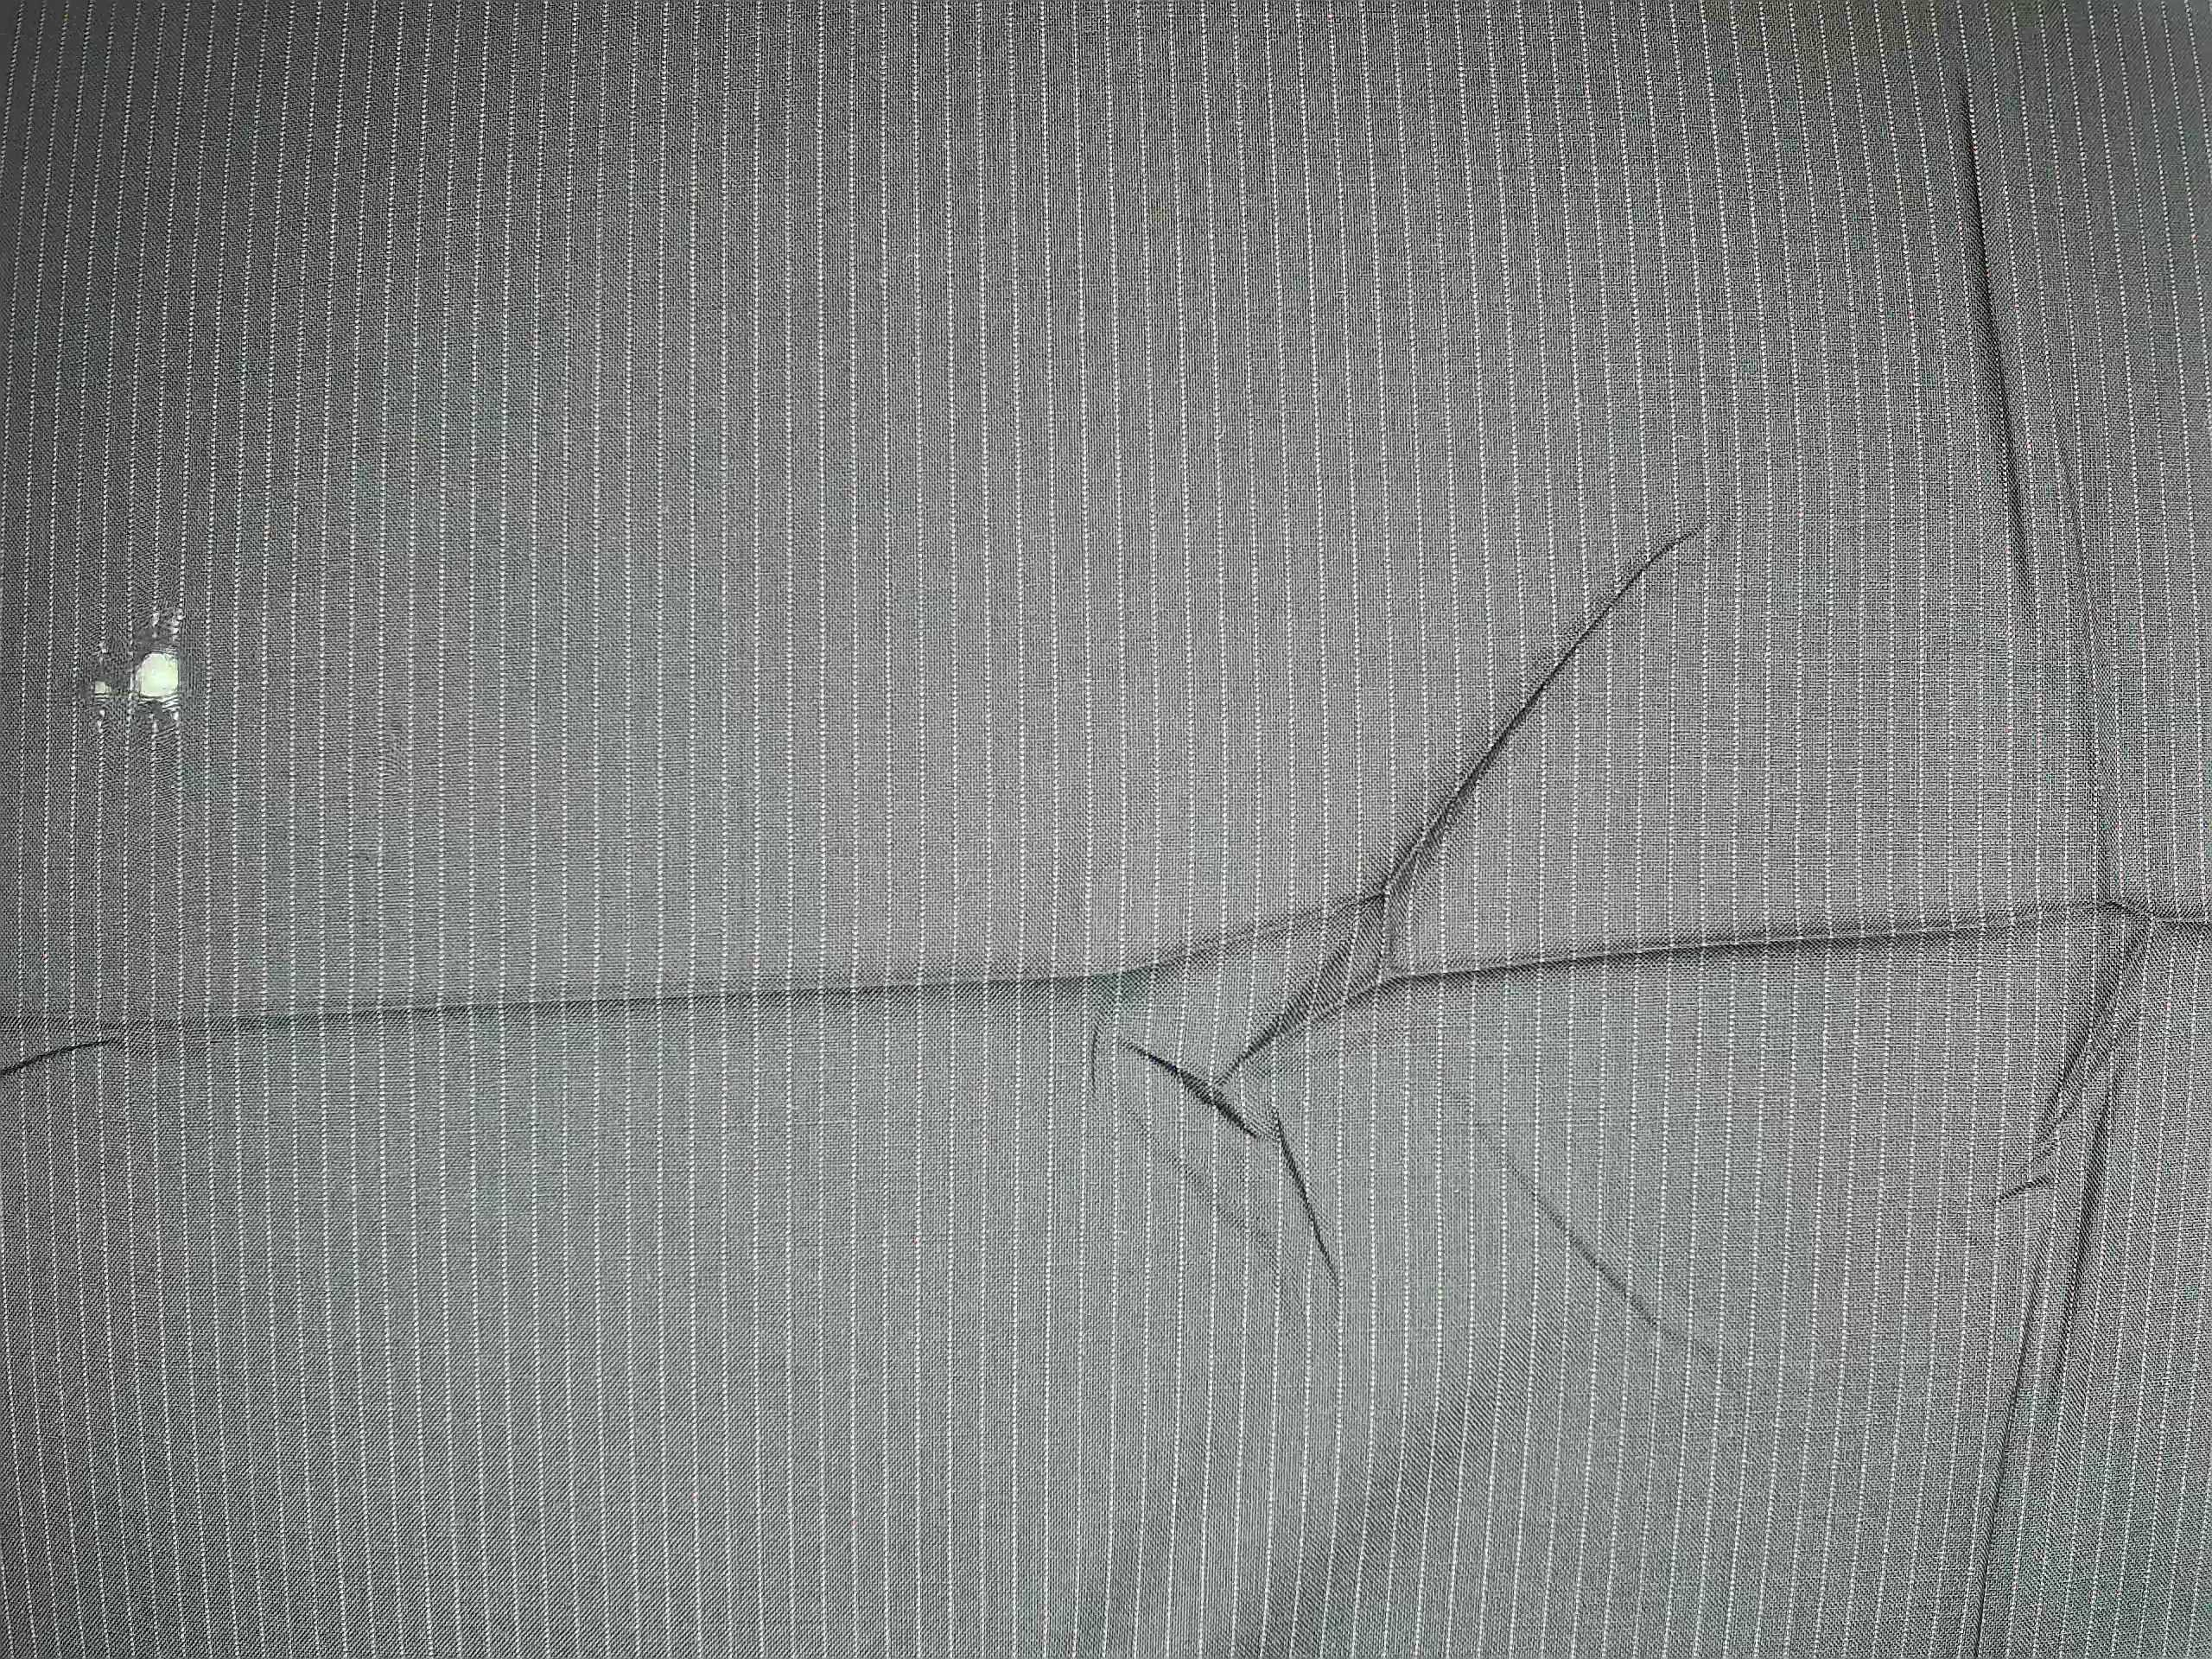puncture-hole: (56, 587, 237, 775)
